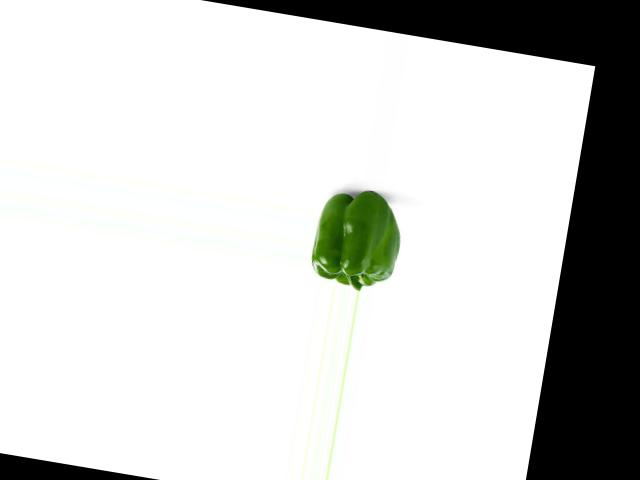bell_pepper: (305, 185, 409, 294)
